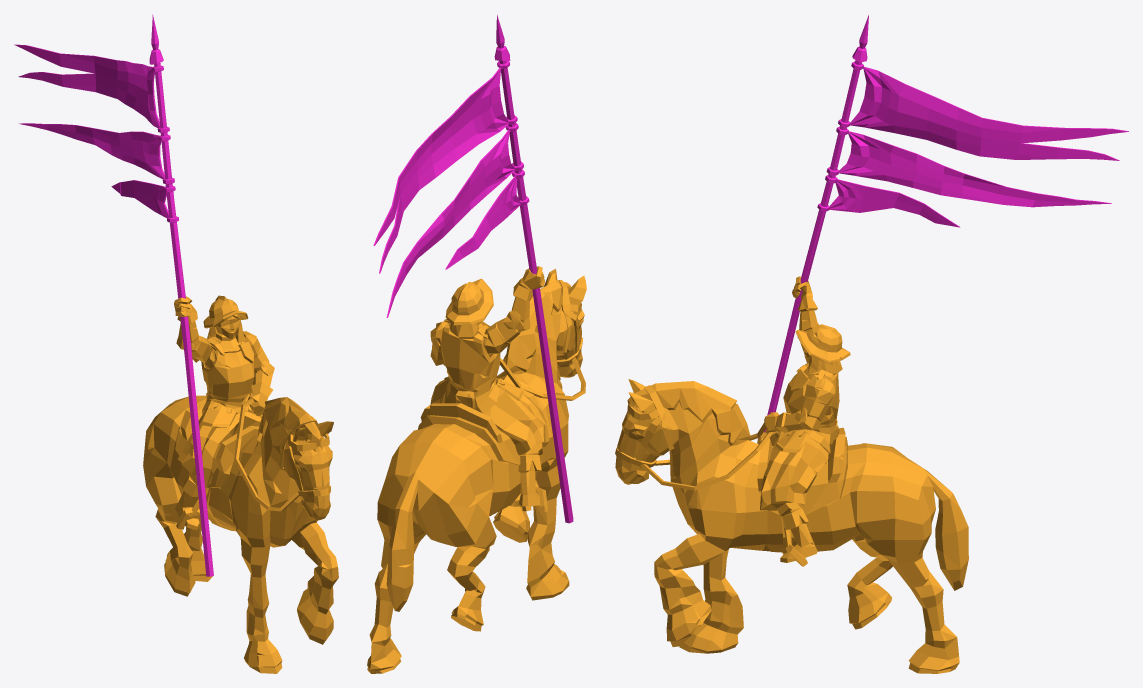
The model's file is SM_Statue_HorseRider_Walking_Fantasy.fbx.
3 views of the same model, side by side, from view 1: azimuth 30°, elevation 25°; view 2: azimuth 150°, elevation 25°; view 3: azimuth 270°, elevation 25° (orthographic). The views are drawn at different scales.
Parts seen in each view (by area): view 1: SM_Statue_HorseRider_Walking_Fantasy; view 2: SM_Statue_HorseRider_Walking_Fantasy; view 3: SM_Statue_HorseRider_Walking_Fantasy.
Part boxes in pixels (bbox=[...]): SM_Statue_HorseRider_Walking_Fantasy: bbox=[14, 14, 338, 673]; SM_Statue_HorseRider_Walking_Fantasy: bbox=[367, 14, 586, 673]; SM_Statue_HorseRider_Walking_Fantasy: bbox=[615, 15, 1128, 673].
Size of the model in its own units: 1.09 by 4.96 by 3.74.
